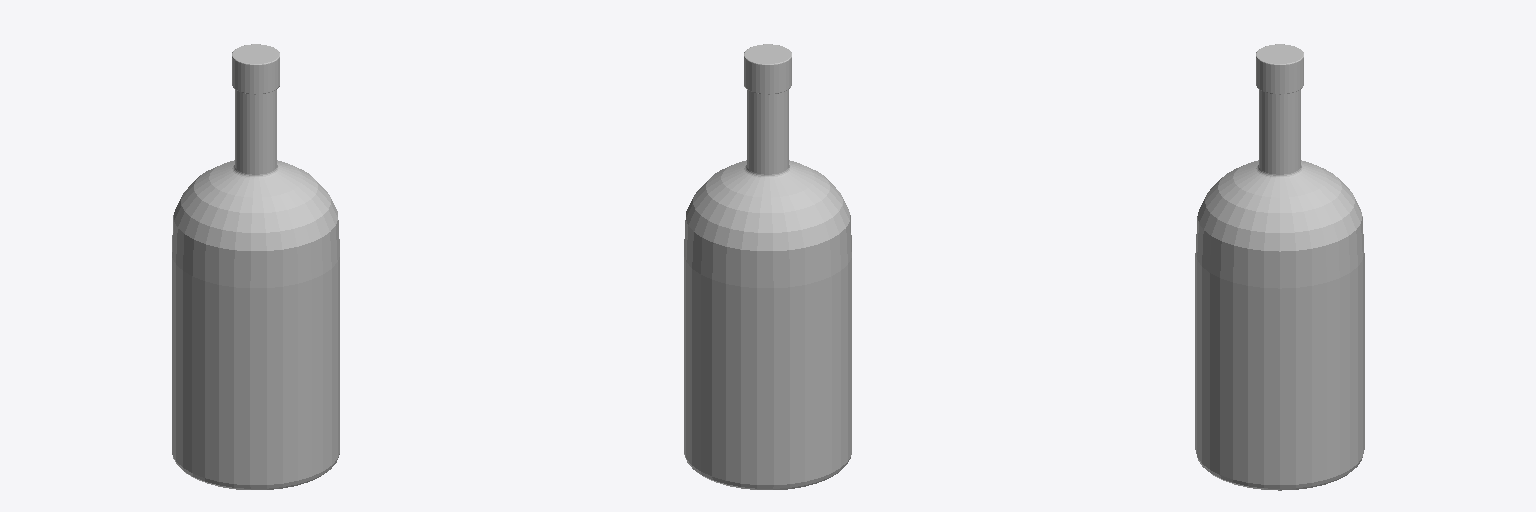
File: Bottle3.obj
3 views of the same model, side by side, from view 1: azimuth 30°, elevation 25°; view 2: azimuth 150°, elevation 25°; view 3: azimuth 270°, elevation 25° (orthographic).
Parts seen in each view (by area): view 1: Cylinder; view 2: Cylinder; view 3: Cylinder.
Boxes of the visible parts, <box> form: Cylinder: <box>172,44,339,489</box>; Cylinder: <box>684,44,851,489</box>; Cylinder: <box>1195,44,1364,490</box>.
Size of the model in its own units: 0.421 by 1.11 by 0.421.